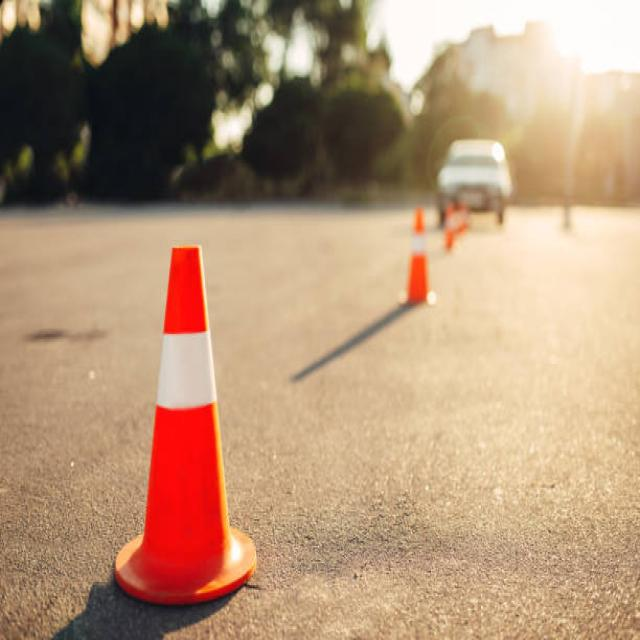Traffic Cone: (76, 167, 298, 640)
